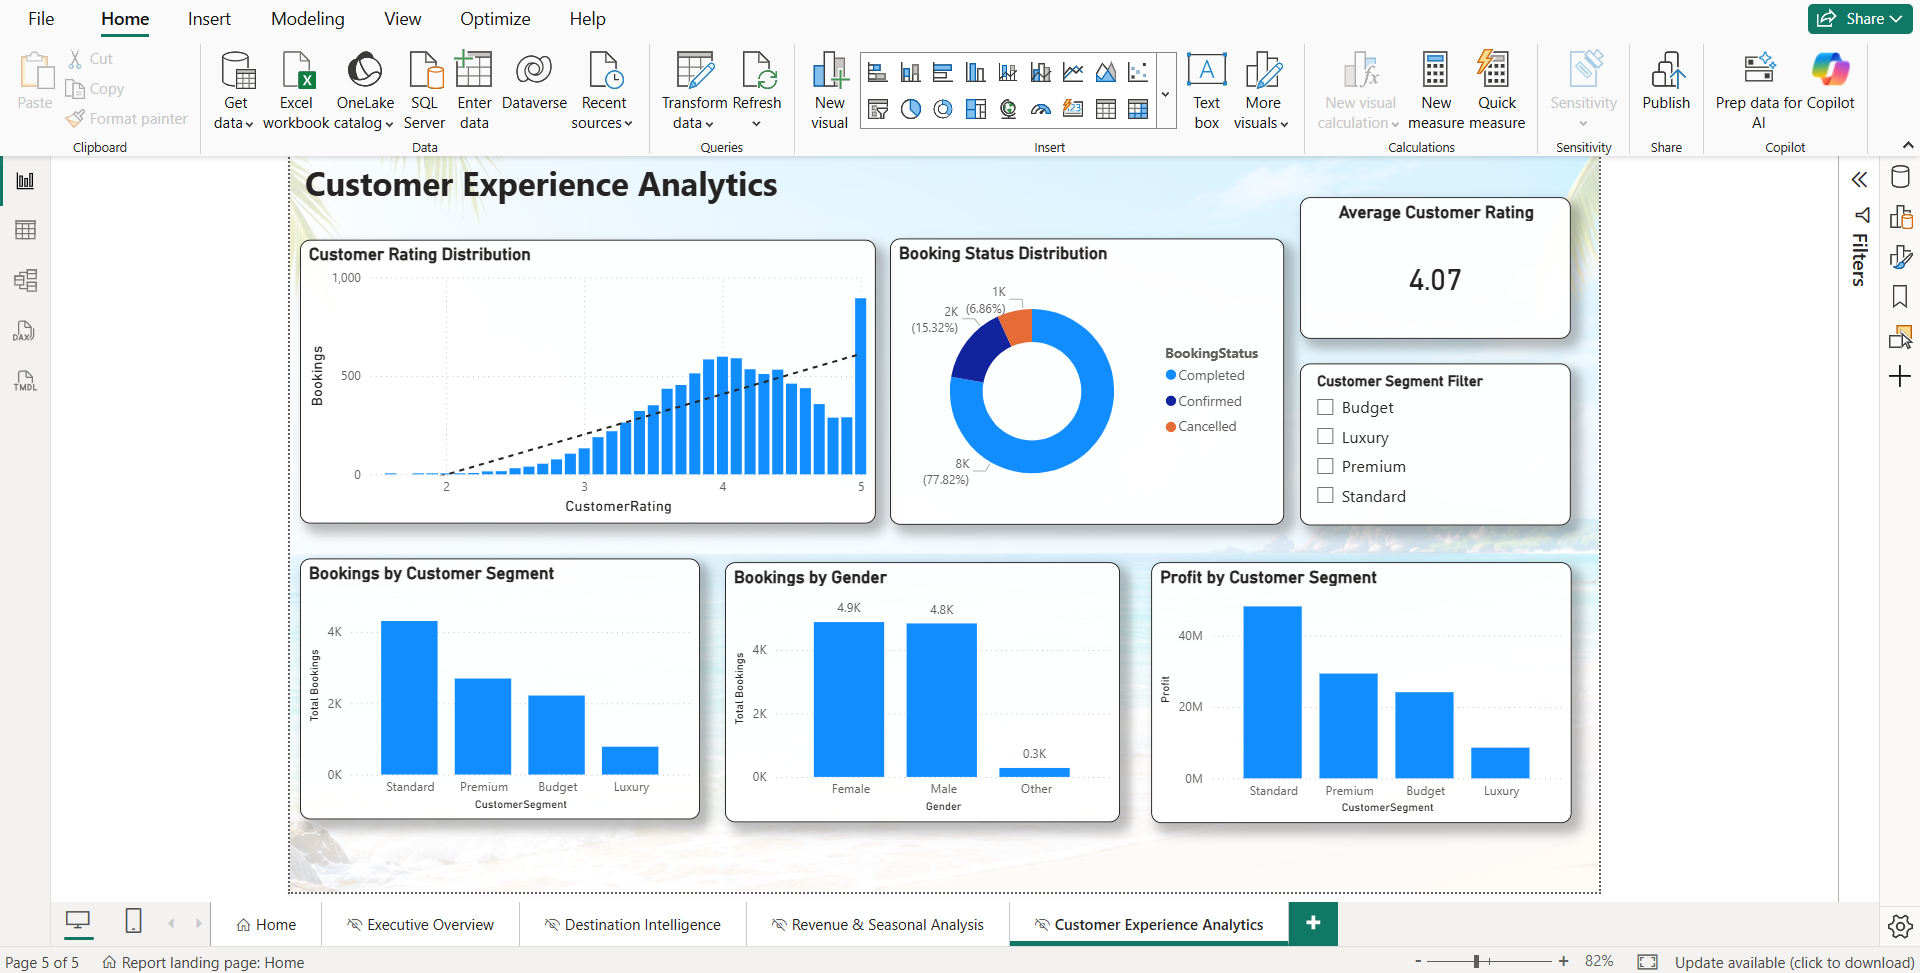

This screenshot's page, from the dashboard's own definition file:
{"tool":"powerbi","page":{"name":"Customer Experience Analytics","canvas":[1280,720],"ordinal":4},"visuals":[{"type":"textbox","box":[10.1,0,610.3,80.8],"z":0},{"type":"card","title":"Average Customer Rating","fields":{"Values":["Avg(Fact_Booking.CustomerRating)"]},"box":[988.5,40,265.1,138.1],"z":1000},{"type":"clusteredColumnChart","title":"Bookings by Customer Segment","fields":{"Category":["Dim_Customer.CustomerSegment"],"Y":["Measure Table.Total Bookings"]},"box":[10.1,393.9,391,255.4],"z":2000},{"type":"donutChart","title":"Booking Status Distribution","fields":{"Category":["Fact_Booking.BookingStatus"],"Y":["Measure Table.Total Bookings"]},"box":[587.2,80.8,385.2,279.9],"z":3000},{"type":"clusteredColumnChart","title":"Bookings by Gender","fields":{"Category":["Dim_Customer.Gender"],"Y":["Measure Table.Total Bookings"]},"box":[425.2,397.6,386.5,254],"z":4000},{"type":"slicer","fields":{"Values":["Dim_Customer.CustomerSegment"]},"box":[988.5,202.9,265.1,158.8],"z":5000},{"type":"clusteredColumnChart","title":"Customer Rating Distribution","fields":{"Category":["Fact_Booking.CustomerRating"],"Y":["CountNonNull(Fact_Booking.BookingID)"]},"box":[9.7,81.5,563.3,277.5],"z":6000},{"type":"clusteredColumnChart","title":" Profit by Customer Segment","fields":{"Category":["Dim_Customer.CustomerSegment"],"Y":["Sum(Fact_Booking.Profit)"]},"box":[842.1,397.6,411.4,255.4],"z":7000}]}

Visuals, with their boxes on the page's 1280x720 design canvas (x1, y1, x2, y2). These are canvas units, not pixel positions in the 1920x973 screenshot, which may show the page scaled, cropped or inside an application window:
textbox: (x1=10, y1=0, x2=620, y2=81)
"Average Customer Rating" card: (x1=988, y1=40, x2=1254, y2=178)
"Bookings by Customer Segment" clusteredColumnChart: (x1=10, y1=394, x2=401, y2=649)
"Booking Status Distribution" donutChart: (x1=587, y1=81, x2=972, y2=361)
"Bookings by Gender" clusteredColumnChart: (x1=425, y1=398, x2=812, y2=652)
slicer - Dim_Customer.CustomerSegment: (x1=988, y1=203, x2=1254, y2=362)
"Customer Rating Distribution" clusteredColumnChart: (x1=10, y1=82, x2=573, y2=359)
" Profit by Customer Segment" clusteredColumnChart: (x1=842, y1=398, x2=1254, y2=653)
